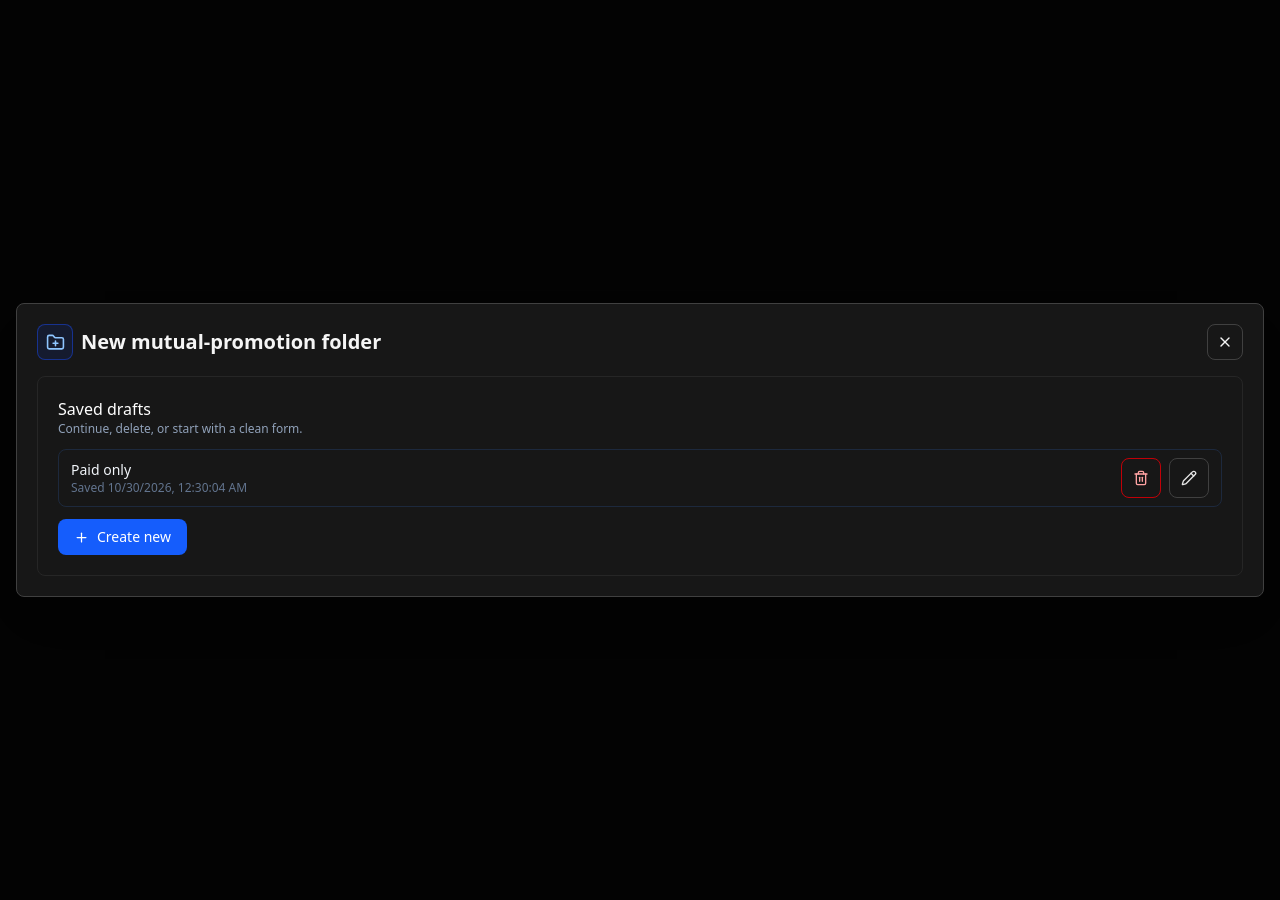
MutualPromotionFolderFormModal drafts › creates a paid-only folder without a publication step or link-use choice
Click the button named "Continue draft Paid only": (1189, 478) [1169,458,1209,498]
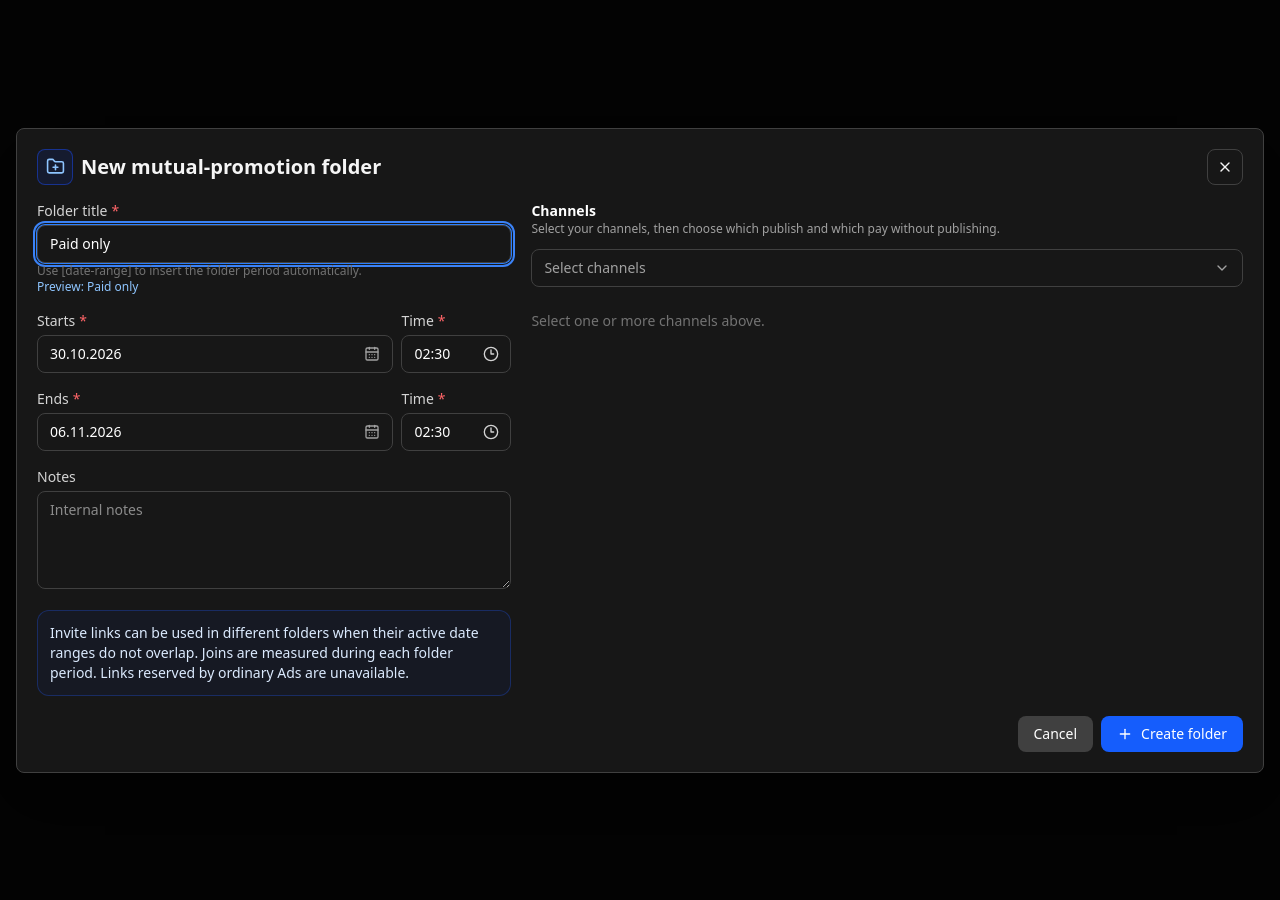
expect the button "Create folder" is shown: met, box [1101,716,1243,752]
